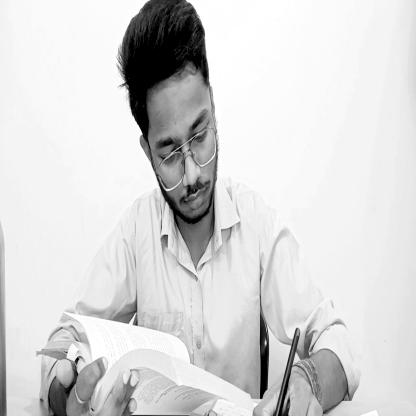Distracted: (122, 0, 226, 232)
